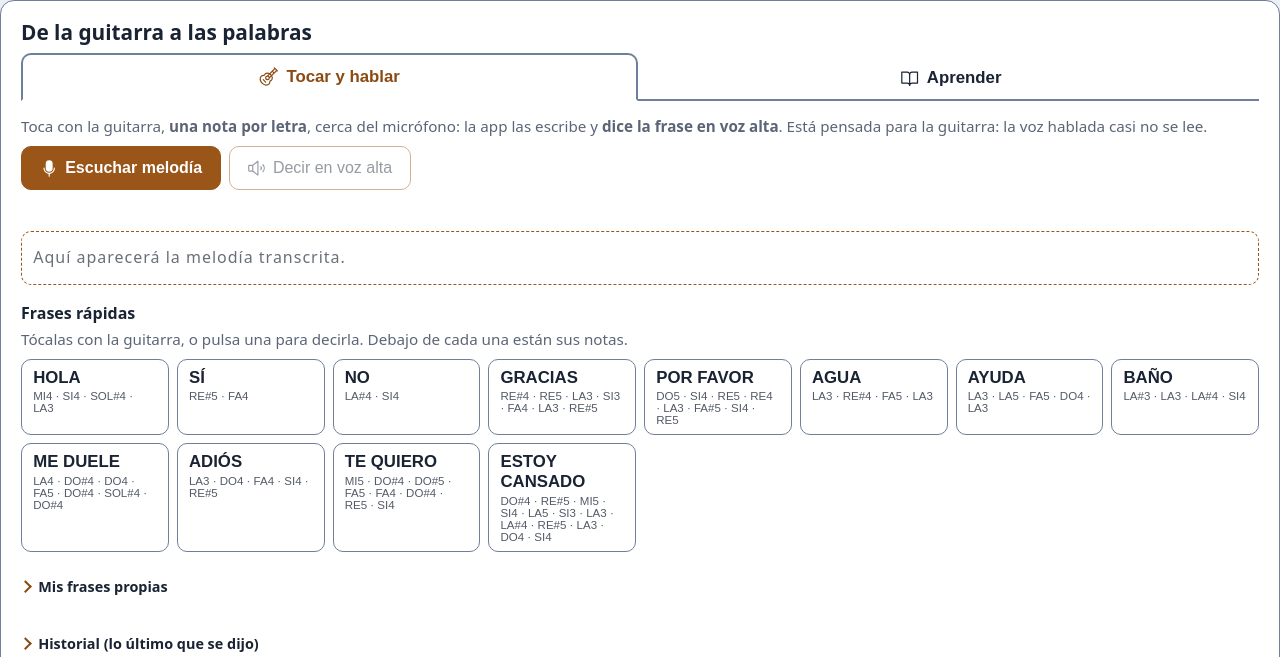
InstrumentoPanel (escucha simulada) › cambiar de pestaña no corta la escucha ni pierde la transcripción
What coordinates should you click on to do the following:
click the button "Escuchar melodía"
I would click on:
 (121, 168)
Its box is [21,146,221,190].
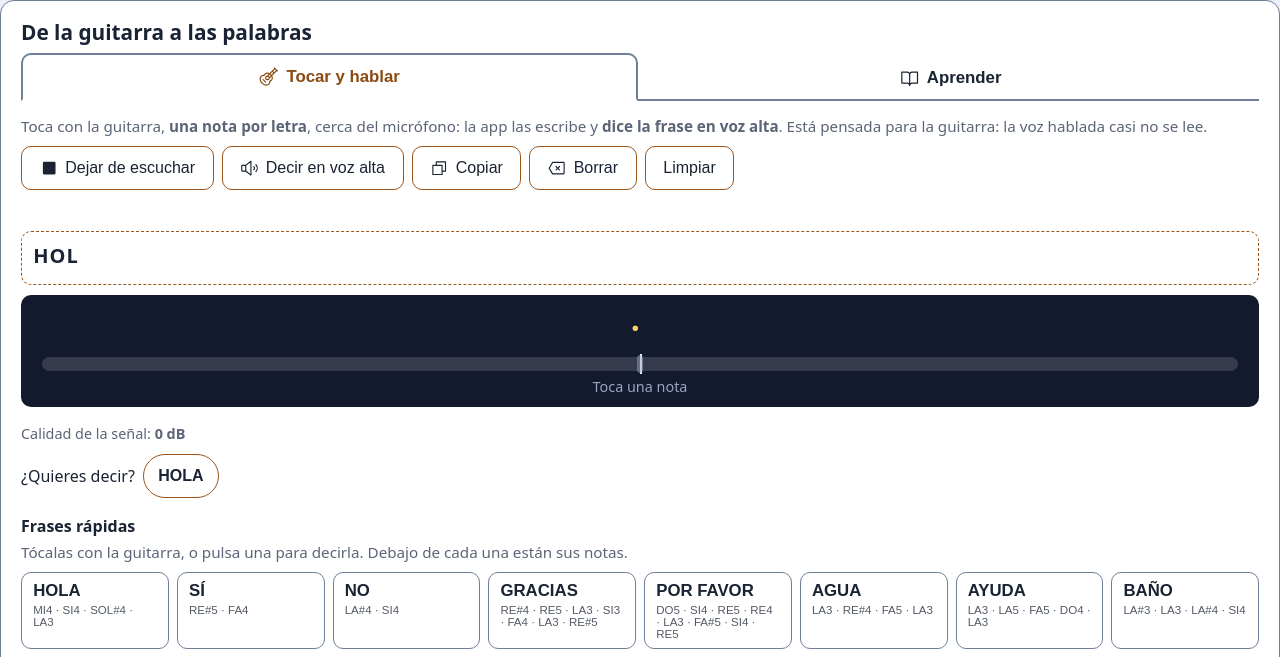
What coordinates should you click on to do the following:
click the tab "Aprender"
I would click on:
 (950, 77)
Its box is [642,53,1259,101].
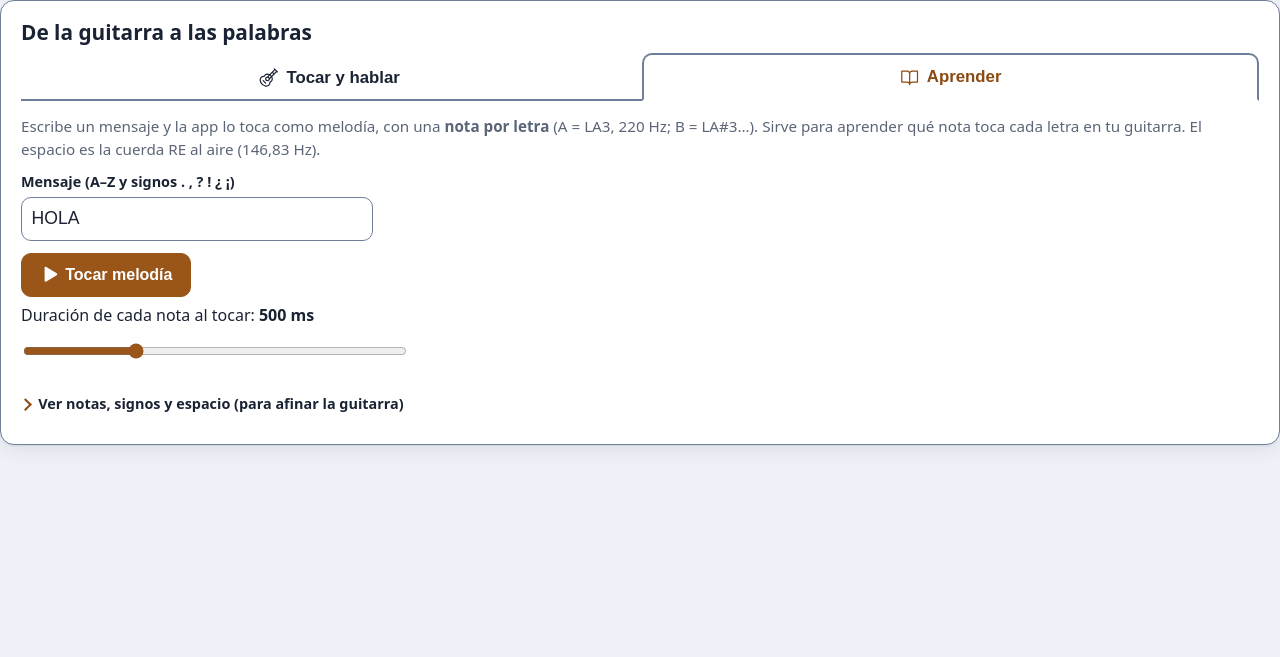
What coordinates should you click on to do the following:
click the tab "Tocar y hablar"
I would click on:
 (330, 77)
Its box is [21,53,638,101].
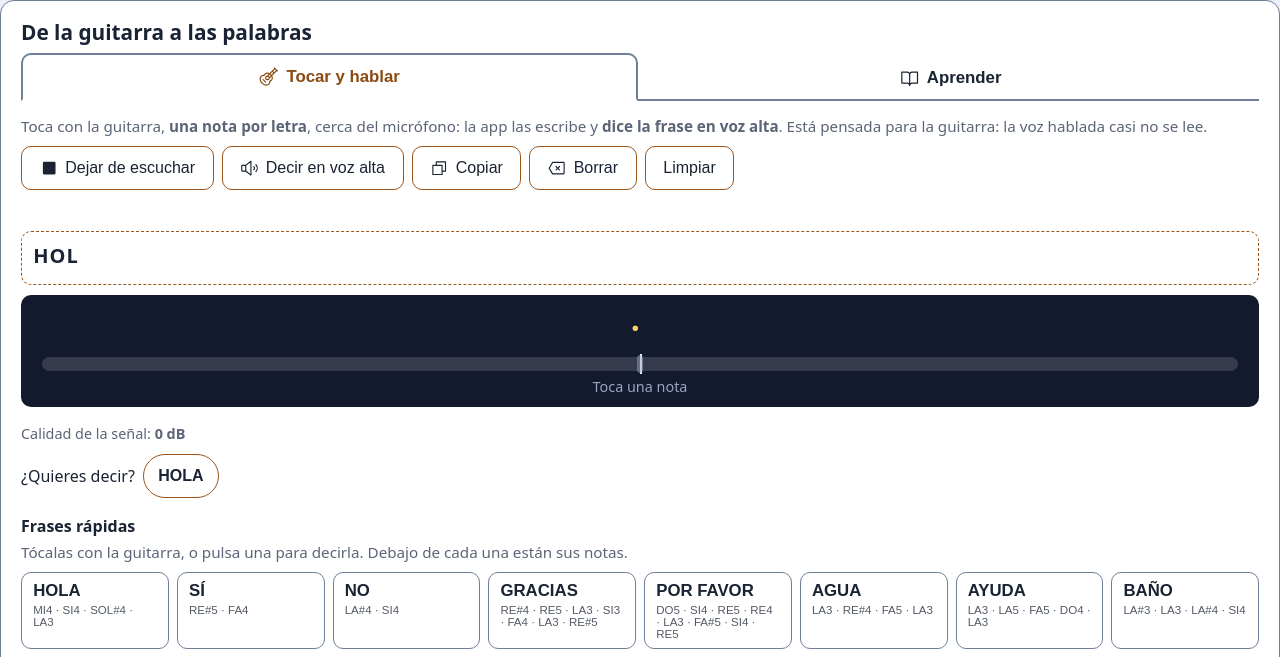
Now the text named "melodía transcrita" reads "HOL", box [33,242,79,269]
Now the button "Dejar de escuchar" is shown, box [21,146,214,190]
